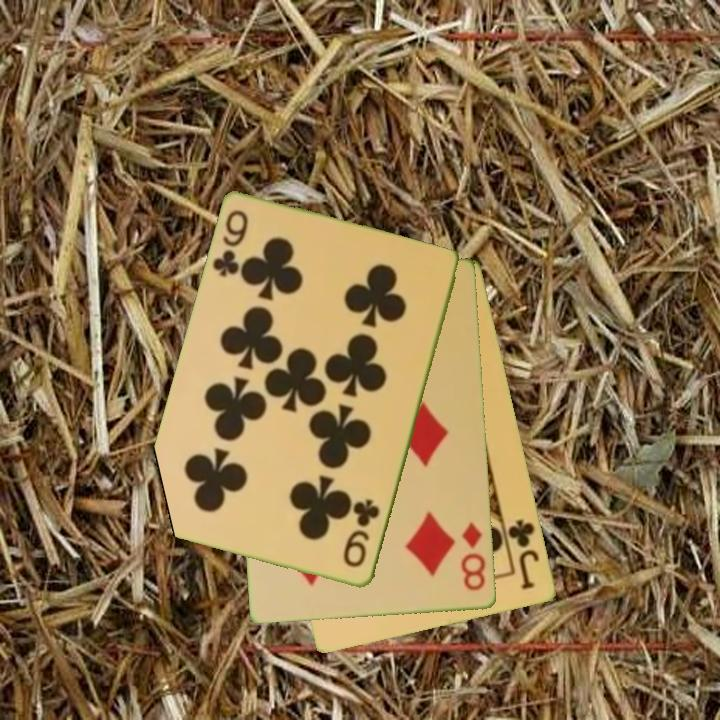8d: (458, 519, 489, 594)
9c: (340, 496, 383, 571), (209, 207, 252, 281)
Jc: (505, 516, 543, 593)
